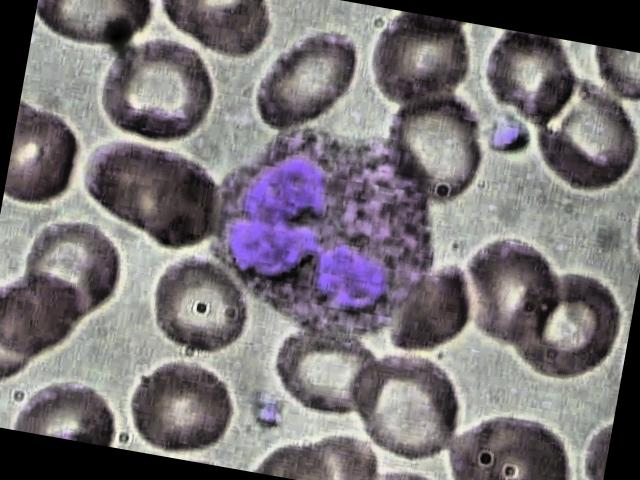Platelets: (474, 105, 538, 163), (245, 389, 292, 440)
RBC: (56, 118, 231, 260), (443, 215, 580, 362), (75, 25, 224, 156), (345, 338, 486, 471), (512, 62, 640, 200), (370, 76, 497, 212), (503, 255, 629, 390), (248, 11, 369, 148), (112, 350, 246, 464), (260, 316, 396, 428), (130, 248, 256, 362), (15, 209, 130, 324), (436, 393, 588, 480), (1, 98, 93, 222), (32, 0, 158, 59)
WBC: (178, 107, 472, 360)
